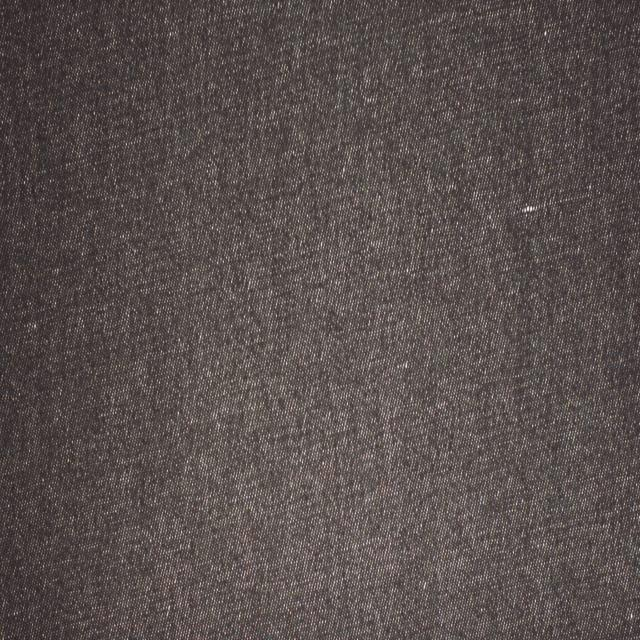pulled_or_thick_thread: (512, 193, 591, 215)
